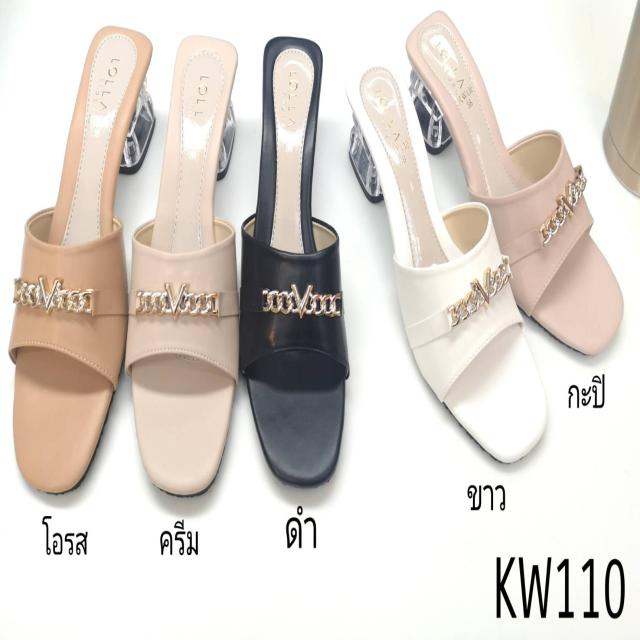black: (239, 32, 347, 488)
cream: (125, 30, 241, 497)
kapi: (405, 9, 623, 358)
orot: (16, 22, 150, 487)
white: (349, 57, 550, 460)
